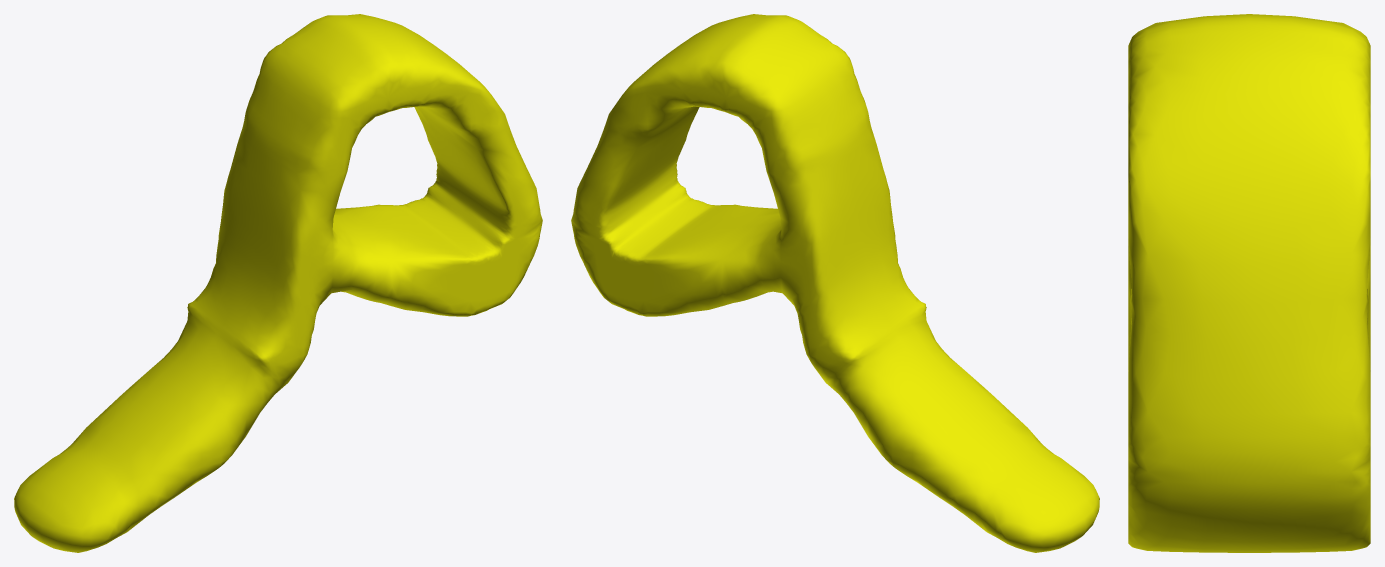
3 views of the same model, side by side, from view 1: azimuth 30°, elevation 25°; view 2: azimuth 150°, elevation 25°; view 3: azimuth 270°, elevation 25° (orthographic). The views are drawn at different scales.
Visible parts, largest first — view 1: char_1; view 2: char_1; view 3: char_1.
Part boxes in pixels (x1,y1,x2,y2): char_1: (14, 14, 542, 552); char_1: (571, 14, 1099, 552); char_1: (1128, 14, 1370, 552).
Bounding box in the file's own units: 6.78 × 5.8 × 1.8.
